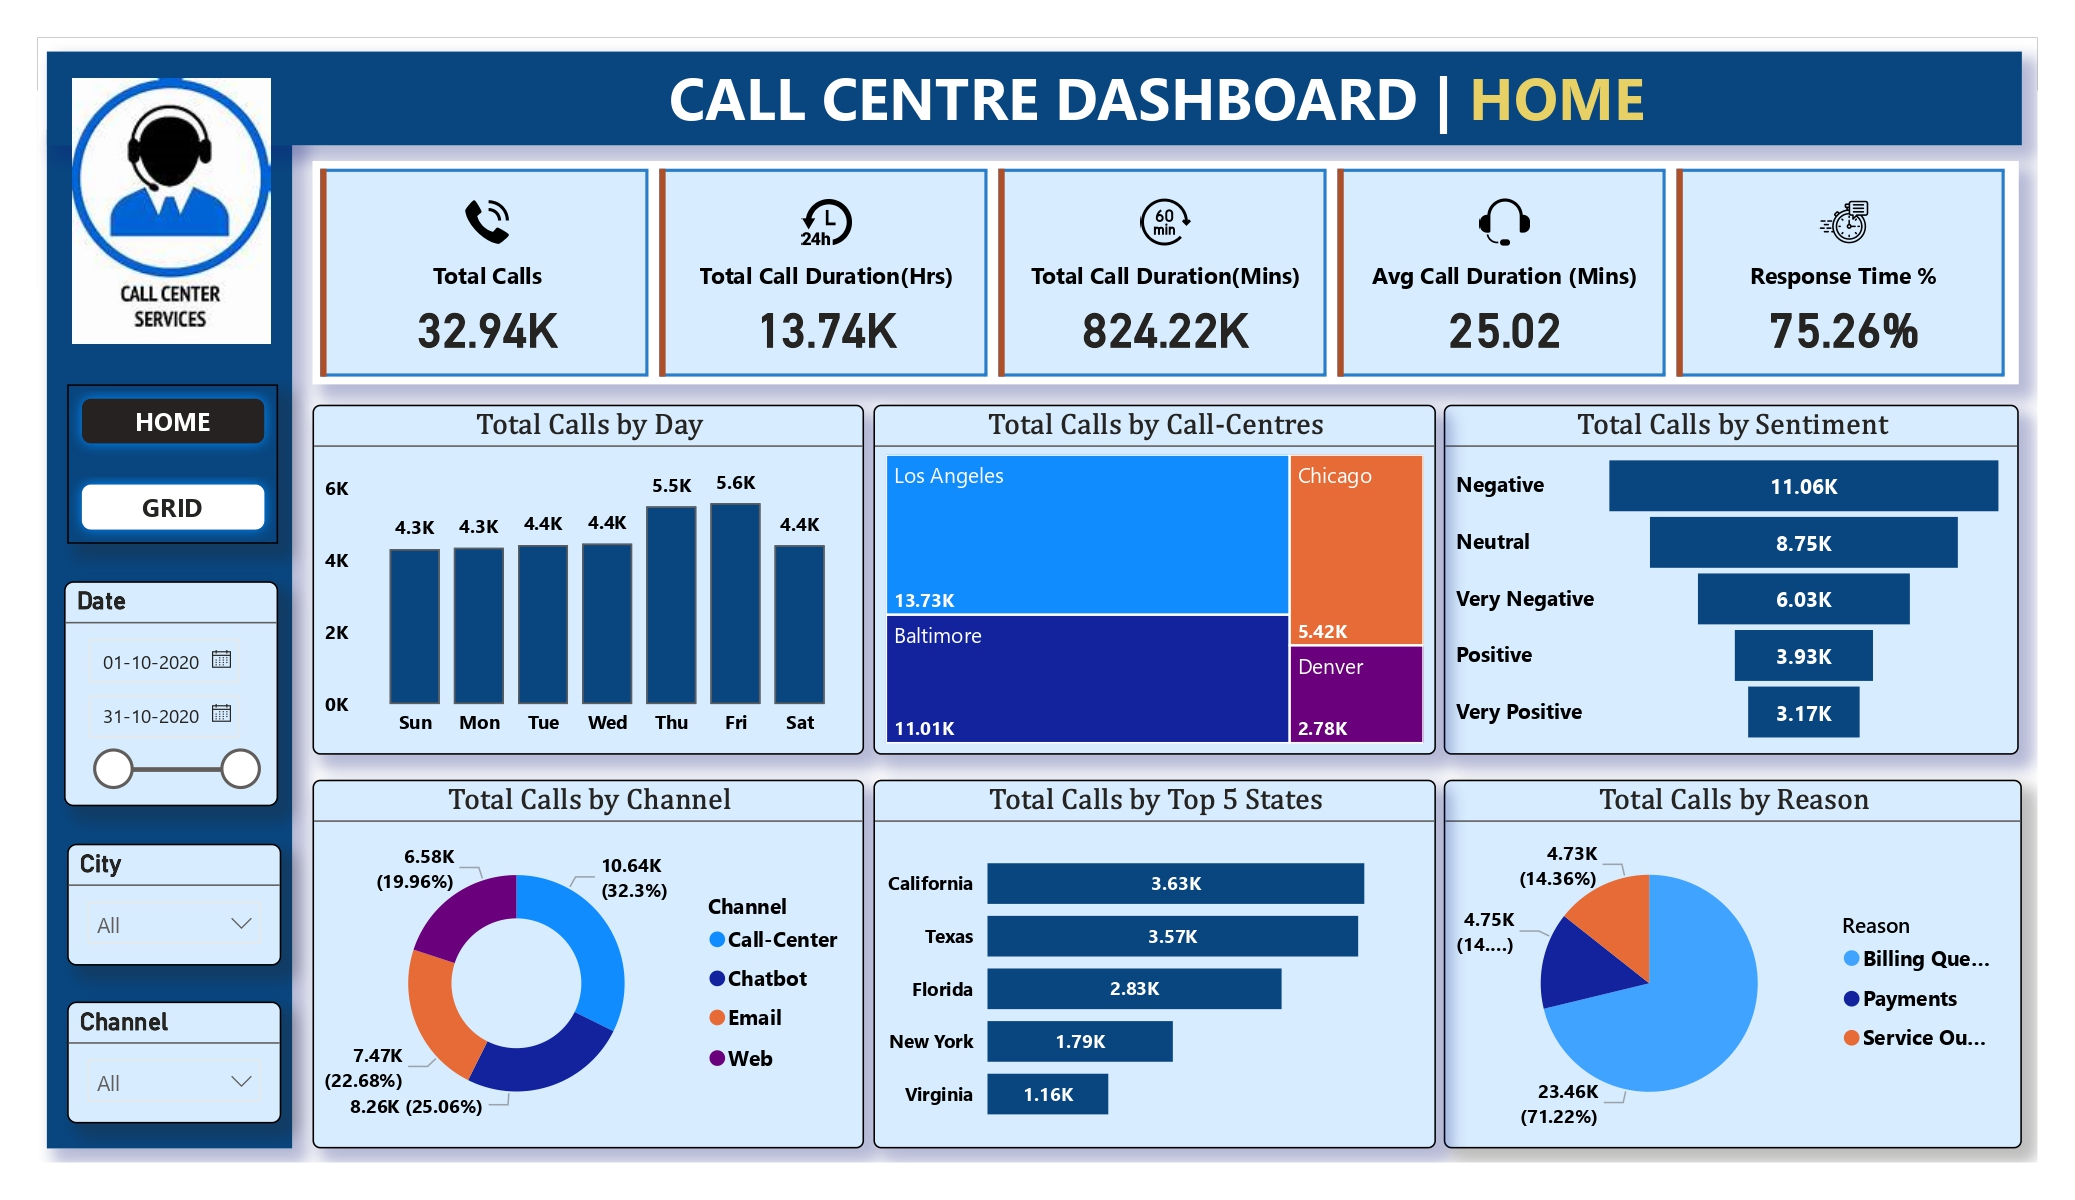

The page's visual inventory and layout, read from the dashboard file:
{"tool":"powerbi","page":{"name":"HOME","canvas":[1280,720],"ordinal":0},"visuals":[{"type":"shape","box":[6.3,58.7,157.1,652.4],"z":0},{"type":"shape","box":[6.2,8.8,1263.8,60],"z":1000},{"type":"cardVisual","fields":{"Data":["Call Center_Call Center.Total Calls","Call Center_Call Center.Total Call Duration(Hrs)","Call Center_Call Center.Total Call Duration(Mins)","Call Center_Call Center.Avg Call Duration (Mins)","Call Center_Call Center.Response Time %"]},"box":[176.2,79.4,1092.1,142.9],"z":2000},{"type":"textbox","box":[165.1,7.9,1103.2,60.3],"z":3000},{"type":"funnel","title":"Total Calls by Sentiment","fields":{"Category":["Call Center_Call Center.Sentiment"],"Y":["Call Center_Call Center.Total Calls"]},"box":[900,234.9,368.3,223.8],"z":4000},{"type":"columnChart","fields":{"Y":["Call Center_Call Center.Total Calls"],"Category":["Date Table.Day"]},"box":[176.2,234.9,352.4,223.8],"z":5000},{"type":"pieChart","fields":{"Category":["Call Center_Call Center.Reason"],"Y":["Call Center_Call Center.Total Calls"]},"box":[900,474.6,369.8,236.5],"z":6000},{"type":"donutChart","fields":{"Category":["Call Center_Call Center.Channel"],"Y":["Call Center_Call Center.Total Calls"]},"box":[176.2,474.6,352.4,236.5],"z":7000},{"type":"treemap","title":"Total Calls by Call-Centres ","fields":{"Group":["Call Center_Call Center.Call-Centres City"],"Values":["Call Center_Call Center.Total Calls"]},"box":[534.9,234.9,360.3,223.8],"z":8000},{"type":"slicer","title":"Channel","fields":{"Values":["Call Center_Call Center.Channel"]},"box":[19,617.5,136.5,77.8],"z":9000},{"type":"slicer","title":"City","fields":{"Values":["Call Center_Call Center.City"]},"box":[19,515.9,136.5,77.8],"z":10000},{"type":"image","box":[17.5,0,136.5,222.2],"z":11000},{"type":"barChart","title":"Total Calls by Top 5 States","fields":{"Category":["Call Center_Call Center.State"],"Y":["Call Center_Call Center.Total Calls"]},"box":[534.9,474.6,360.3,236.5],"z":12000},{"type":"slicer","title":"Date","fields":{"Values":["Date Table.Date"]},"box":[17.5,347.6,136.5,144.4],"z":13000},{"type":"pageNavigator","box":[19,222.2,134.9,101.6],"z":13001}]}

Visuals, with their boxes in screenshot pixels (x1, y1, x2, y2):
shape: bbox=(47, 129, 293, 1149)
shape: bbox=(47, 51, 2022, 145)
cardVisual - Call Center_Call Center.Total Calls x Call Center_Call Center.Total Call Duration(Hrs): bbox=(313, 162, 2019, 385)
textbox: bbox=(295, 50, 2019, 144)
"Total Calls by Sentiment" funnel: bbox=(1444, 405, 2019, 754)
columnChart - Call Center_Call Center.Total Calls x Date Table.Day: bbox=(313, 405, 863, 754)
pieChart - Call Center_Call Center.Reason x Call Center_Call Center.Total Calls: bbox=(1444, 779, 2022, 1149)
donutChart - Call Center_Call Center.Channel x Call Center_Call Center.Total Calls: bbox=(313, 779, 863, 1149)
"Total Calls by Call-Centres " treemap: bbox=(873, 405, 1436, 754)
"Channel" slicer: bbox=(67, 1002, 280, 1124)
"City" slicer: bbox=(67, 844, 280, 965)
image: bbox=(65, 38, 278, 385)
"Total Calls by Top 5 States" barChart: bbox=(873, 779, 1436, 1149)
"Date" slicer: bbox=(65, 581, 278, 806)
pageNavigator: bbox=(67, 385, 278, 543)
